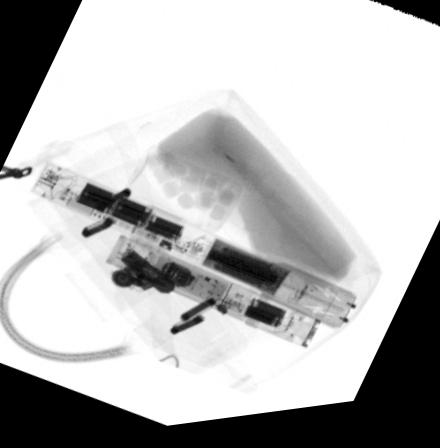Baton: (27, 160, 360, 341), (103, 235, 324, 359)
